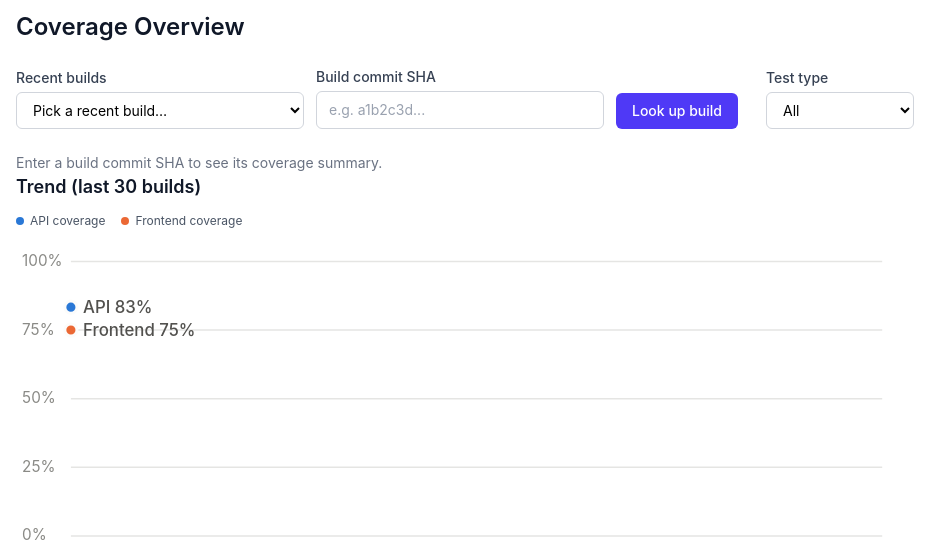
Scenario: OverviewPage › shows a generic error message on a 500
In the field with test id "commit-sha-input": (460, 110) [316, 91, 604, 129], type "abc123"
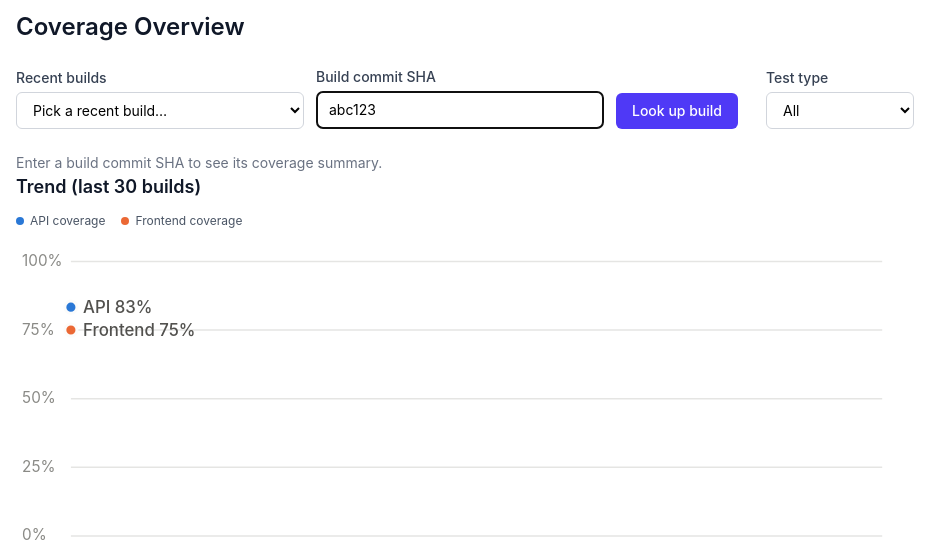
Click the button with test id "commit-sha-submit-button": (677, 111) [616, 93, 738, 129]
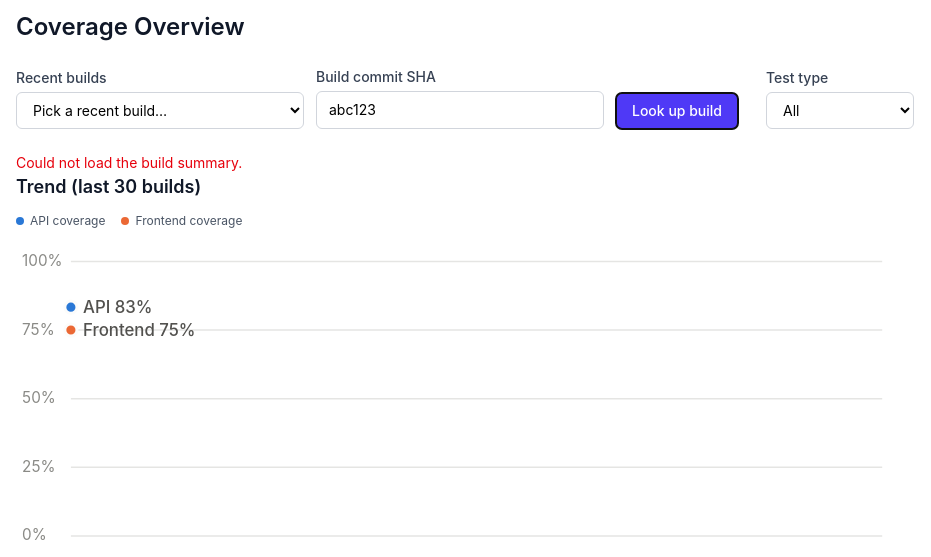
Expected: the text with test id "summary-error" shows "Could not load", [16, 154, 242, 171]
